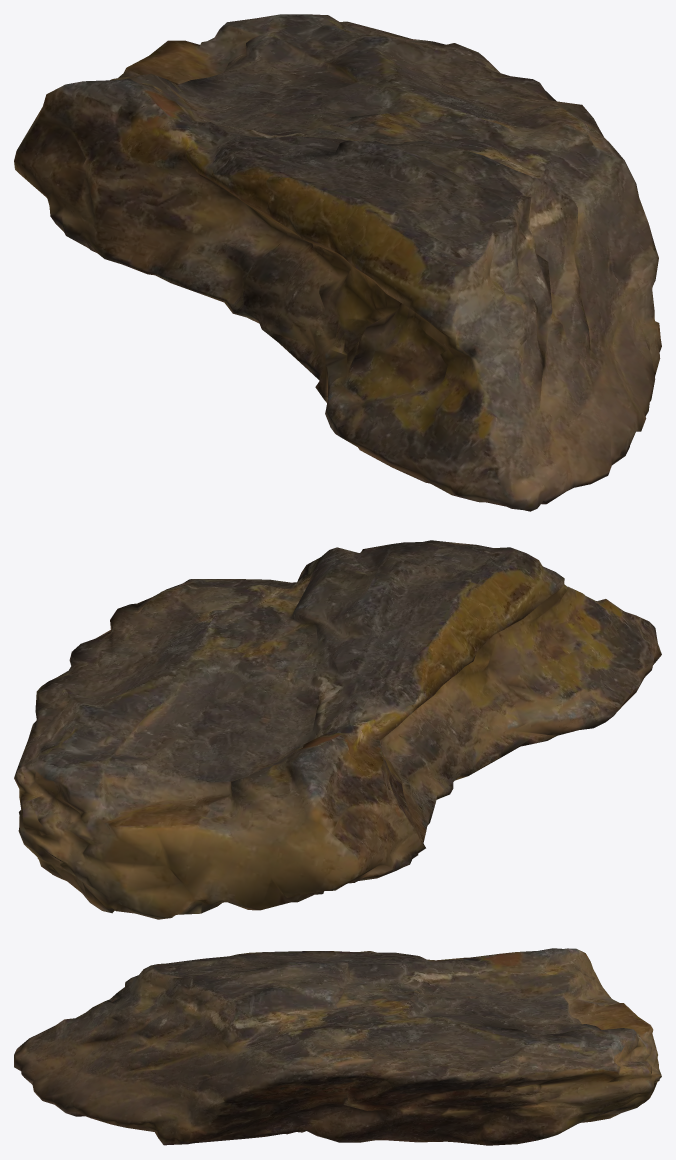
The model's file is rock2.glb.
3 renders of one model, top to bottom at view 1: azimuth 30°, elevation 25°; view 2: azimuth 150°, elevation 25°; view 3: azimuth 270°, elevation 25°, orthographic. The views are drawn at different scales.
Visible parts, largest first — view 1: rock_09_LOD0; view 2: rock_09_LOD0; view 3: rock_09_LOD0.
Part boxes in pixels (<box>): rock_09_LOD0: <box>14,14,661,511</box>; rock_09_LOD0: <box>14,540,661,919</box>; rock_09_LOD0: <box>14,948,661,1145</box>.
Bounding box in the file's own units: 0.074 × 0.0328 × 0.1446.
Materials: 1 (1 with a texture image).
